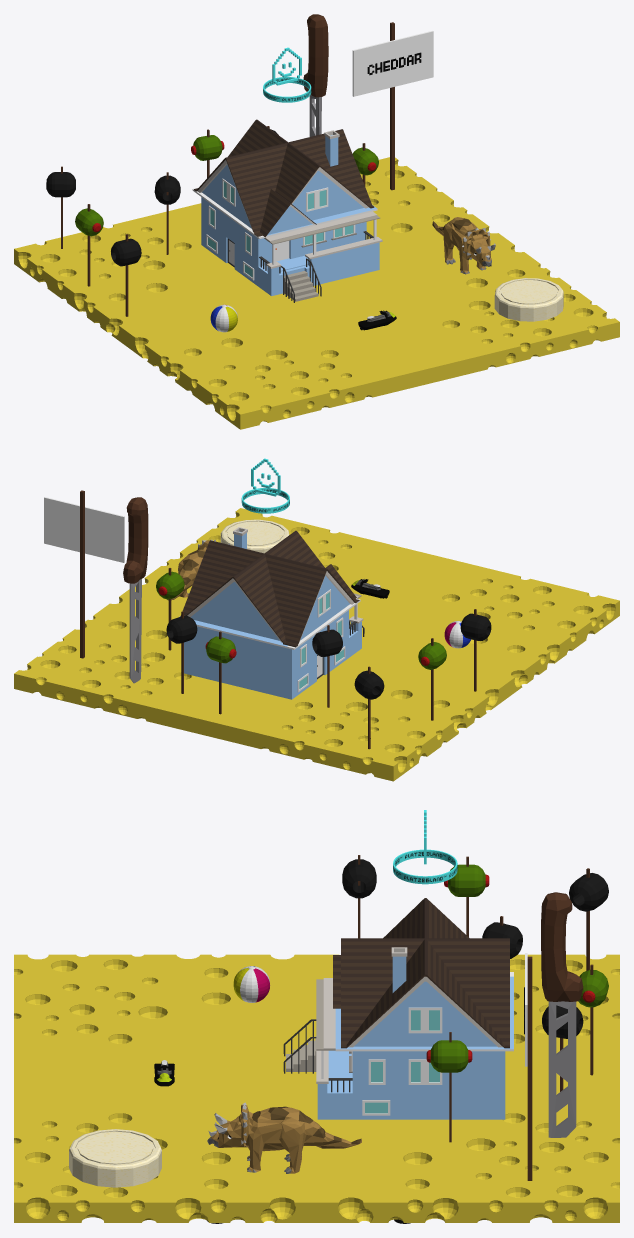
3 views of the same model, one above another, from view 1: azimuth 30°, elevation 25°; view 2: azimuth 150°, elevation 25°; view 3: azimuth 270°, elevation 25° (orthographic). The views are drawn at different scales.
Visible parts, largest first — view 1: Cube.022, Cube.1594, Cube.023, Cylinder.016, Cube.024, ANIMAL_Triceratops, TYPE_PREMIUM, Sphere.017, Sphere.018, Sphere.016, Sphere.020, Sphere.022 (+2 smaller); view 2: Cube.022, Cube.1594, Cube.023, Cube.024, Cylinder.016, TYPE_PREMIUM, Sphere.021, Sphere.017, Sphere.020, Sphere.022, Sphere.016, ANIMAL_Triceratops (+4 smaller); view 3: Cube.022, Cube.1594, Cube.024, ANIMAL_Triceratops, Cylinder.016, Cube.023, Sphere.019, Sphere.016, TYPE_PREMIUM, Sphere.017, Sphere.018, Sphere.022 (+3 smaller).
Part boxes in pixels (x1,y1,x2,y2): Cube.022: [14, 157, 619, 429]; Cube.1594: [192, 119, 382, 302]; Cube.023: [352, 22, 433, 190]; Cylinder.016: [494, 278, 563, 321]; Cube.024: [303, 14, 328, 136]; ANIMAL_Triceratops: [432, 217, 495, 274]; TYPE_PREMIUM: [263, 47, 311, 102]; Sphere.017: [111, 234, 141, 316]; Sphere.018: [75, 204, 103, 286]; Sphere.016: [46, 166, 75, 248]; Sphere.020: [154, 172, 180, 254]; Sphere.022: [191, 129, 224, 177]; Cube.022: [14, 508, 619, 781]; Cube.1594: [179, 527, 364, 699]; Cube.023: [44, 490, 124, 658]; Cube.024: [123, 497, 148, 683]; Cylinder.016: [220, 519, 289, 553]; TYPE_PREMIUM: [241, 458, 289, 513]; Sphere.021: [166, 611, 197, 693]; Sphere.017: [460, 609, 491, 691]; Sphere.020: [312, 625, 342, 707]; Sphere.022: [205, 631, 236, 714]; Sphere.016: [354, 666, 384, 749]; ANIMAL_Triceratops: [167, 539, 230, 600]; Cube.022: [14, 954, 619, 1222]; Cube.1594: [283, 898, 513, 1119]; Cube.024: [541, 892, 583, 1137]; ANIMAL_Triceratops: [207, 1102, 361, 1173]; Cylinder.016: [69, 1129, 161, 1187]; Cube.023: [524, 953, 532, 1180]; Sphere.019: [426, 1032, 472, 1142]; Sphere.016: [569, 868, 608, 970]; TYPE_PREMIUM: [393, 810, 457, 884]; Sphere.017: [342, 855, 376, 938]; Sphere.018: [444, 856, 489, 936]; Sphere.022: [578, 964, 608, 1075].
Bounding box in the file's own units: 3917 × 2202 × 4000.
39 materials, 4 textured.
